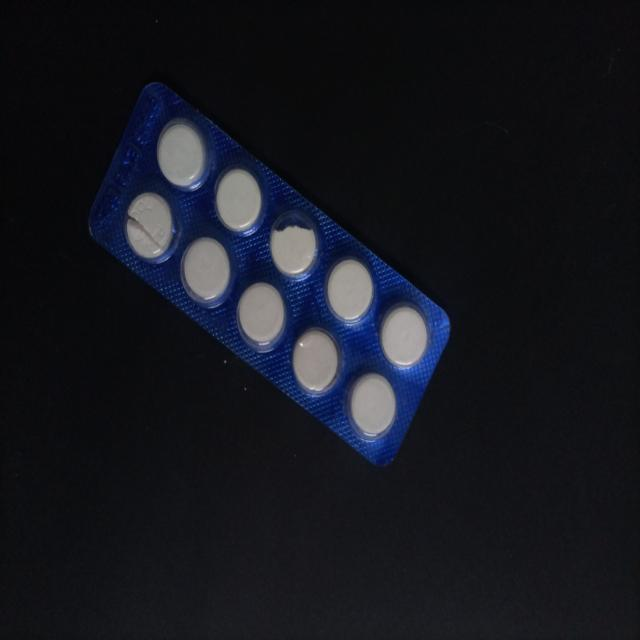defect: (267, 205, 324, 281), (124, 186, 178, 264)
